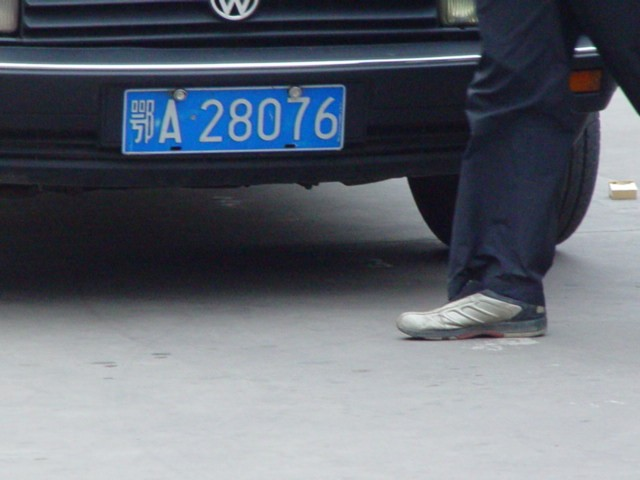plate_number: (120, 86, 346, 150)
